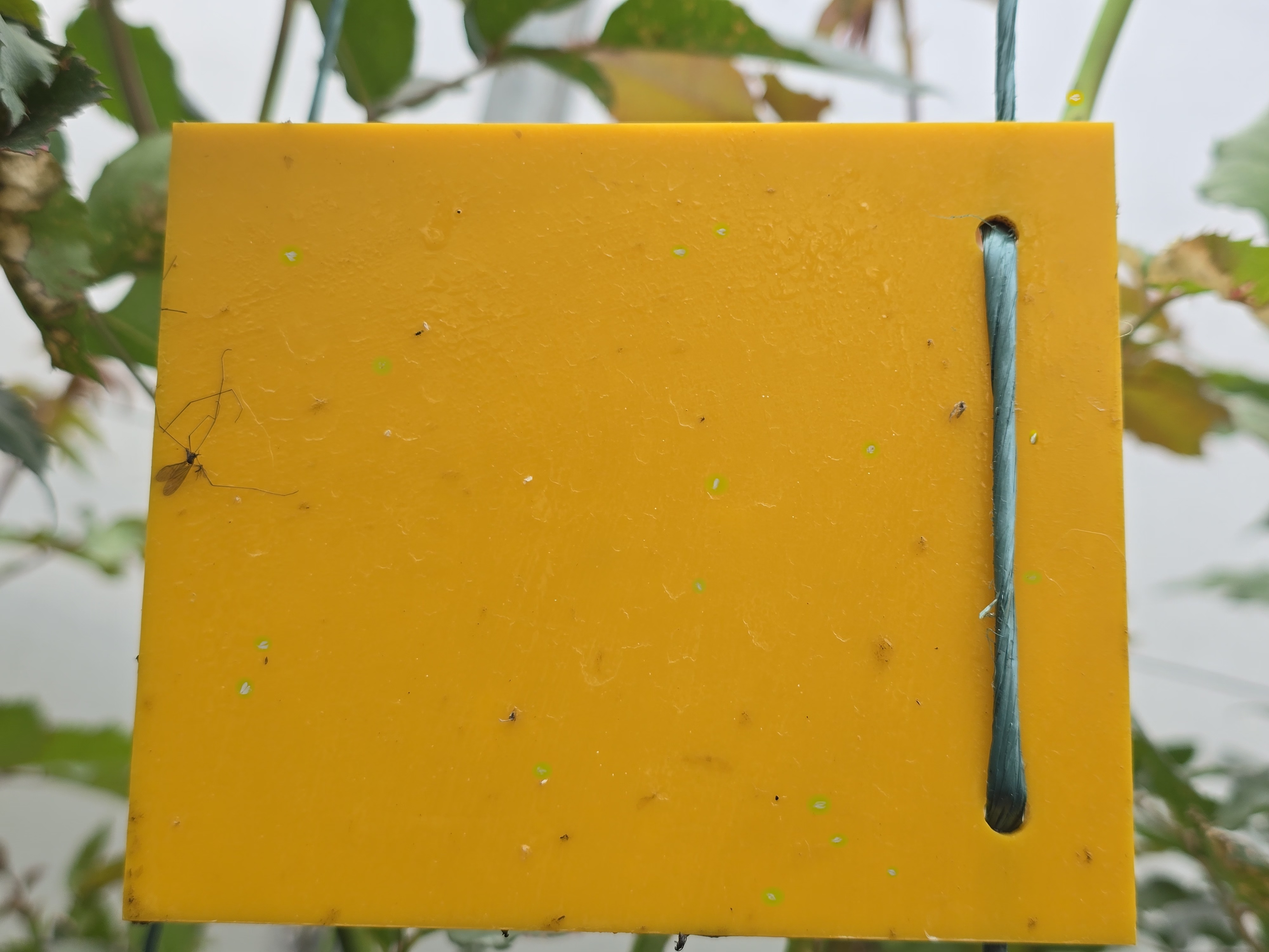WF: (707, 476, 725, 492), (810, 797, 828, 812), (282, 248, 300, 263), (764, 889, 781, 904), (374, 358, 390, 373), (237, 680, 252, 696), (863, 442, 878, 456), (522, 474, 539, 485), (535, 764, 549, 777), (714, 224, 727, 236), (1068, 92, 1082, 103), (255, 638, 269, 649), (1024, 572, 1039, 582), (673, 246, 686, 257), (520, 842, 534, 852), (831, 835, 845, 845), (539, 777, 550, 789), (694, 580, 704, 592), (383, 428, 393, 439), (423, 321, 431, 332), (888, 867, 897, 876), (1030, 432, 1037, 442)
